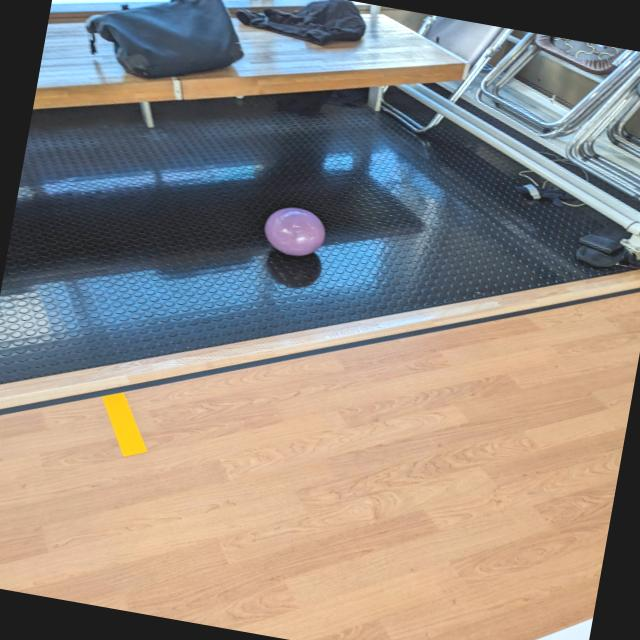purple_ball: (259, 200, 333, 262)
